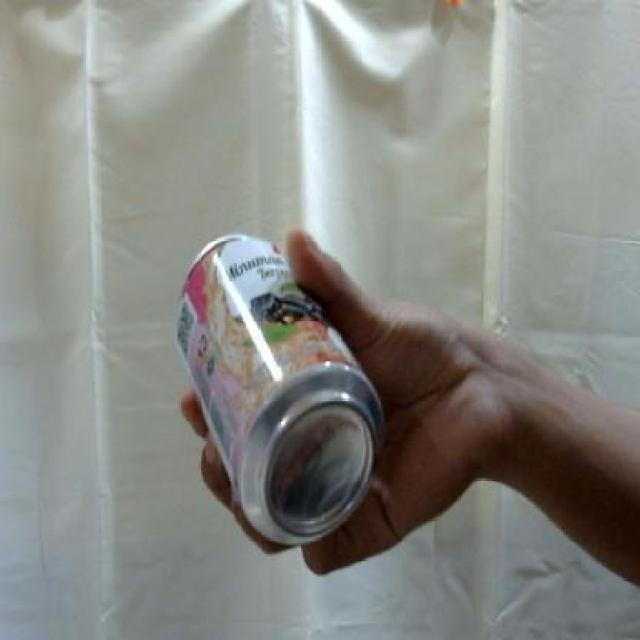Metal: (175, 229, 382, 548)
